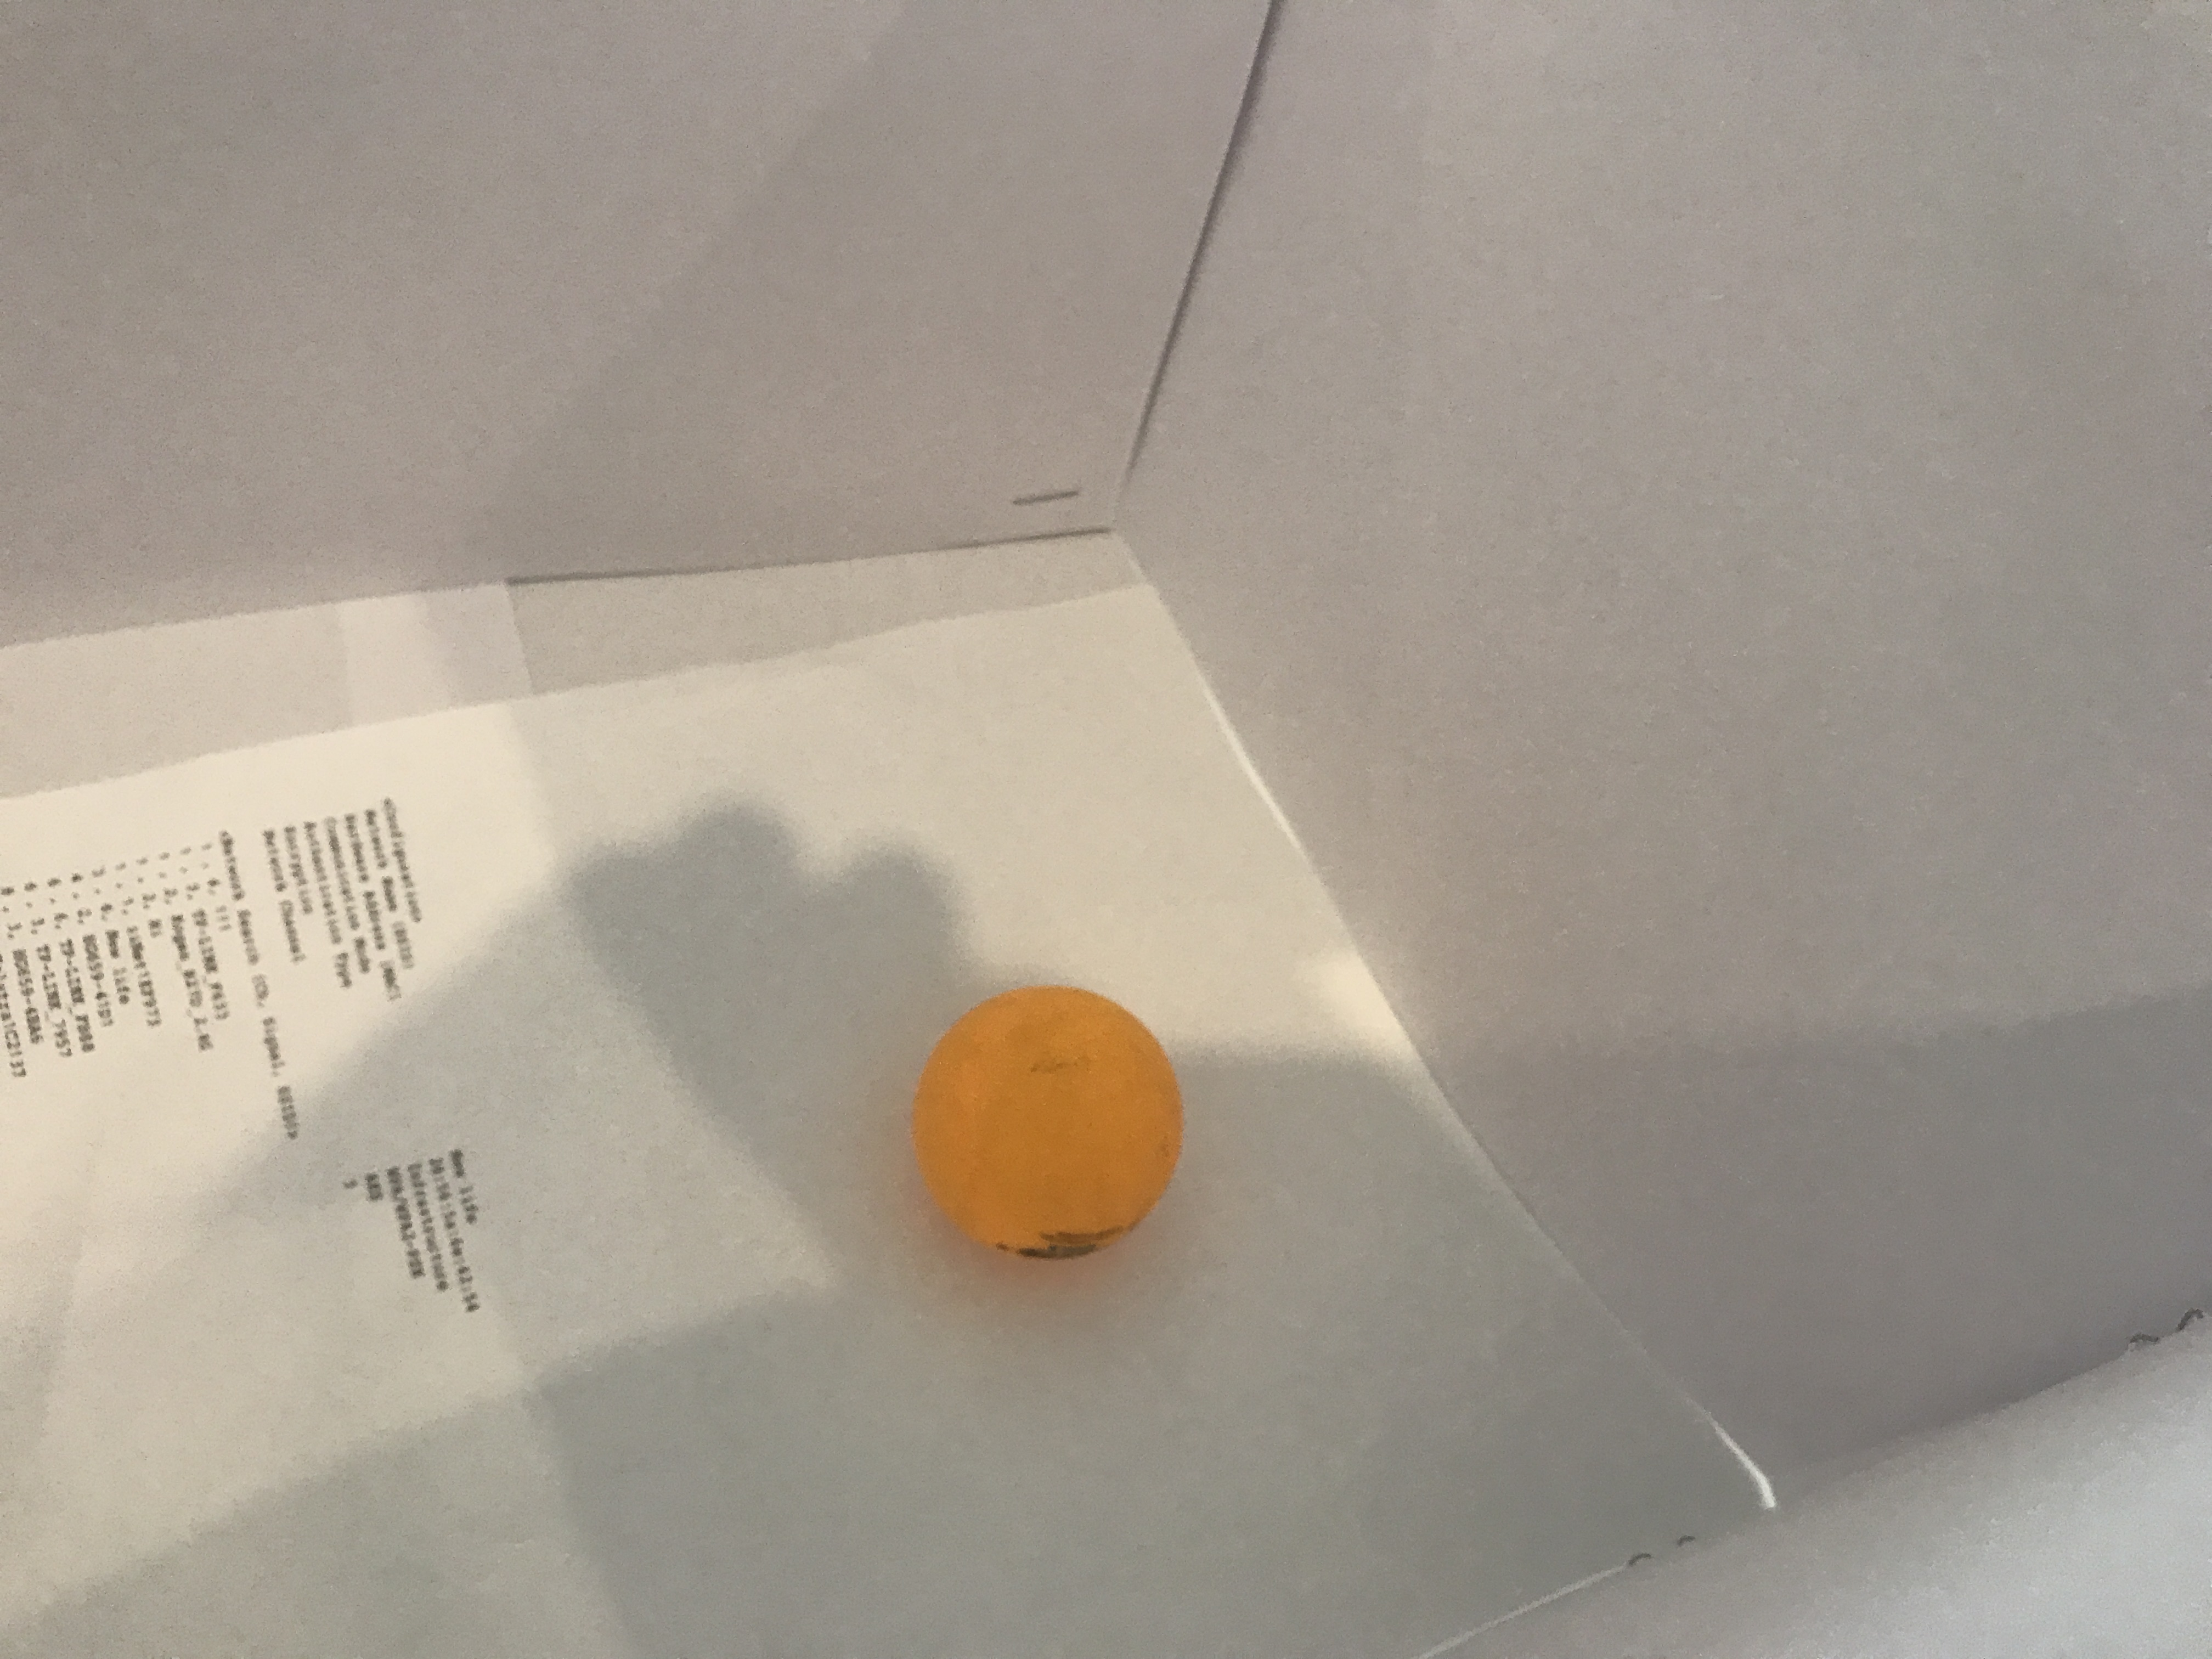pp: (907, 990, 1183, 1255)
